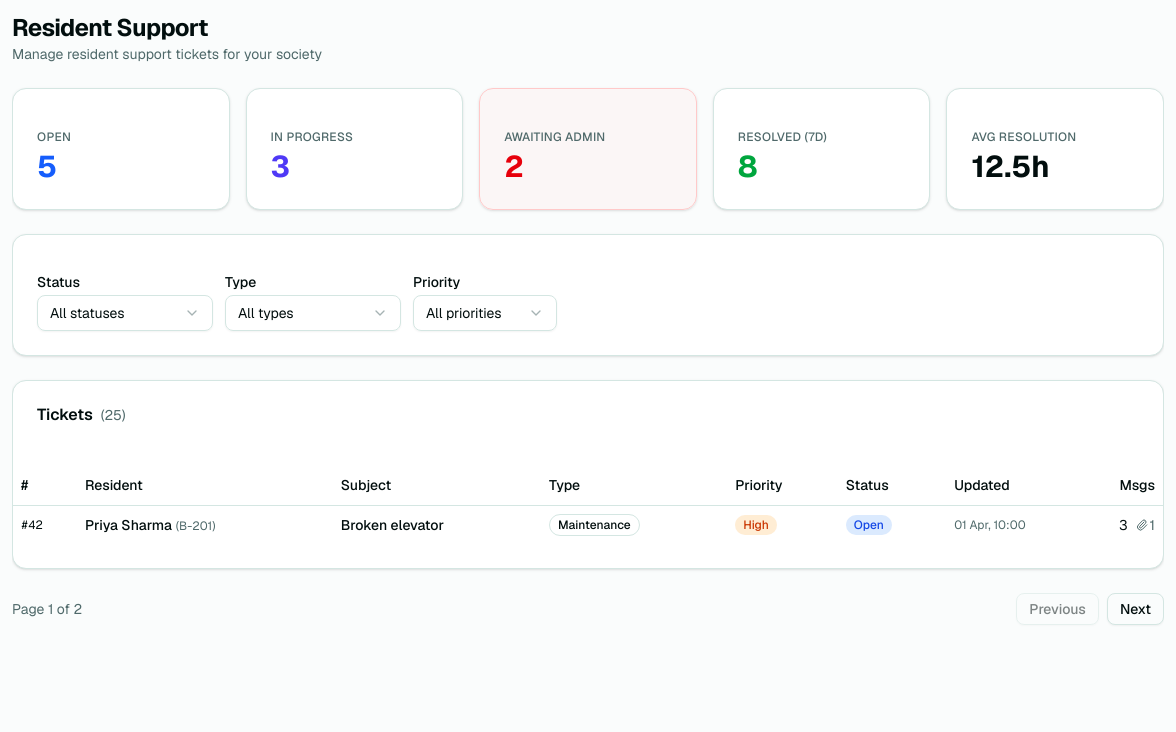
Test case: AdminResidentSupportPage › navigates to previous page
Click the button "Next".
click(1135, 608)  # box [1107,592,1164,624]
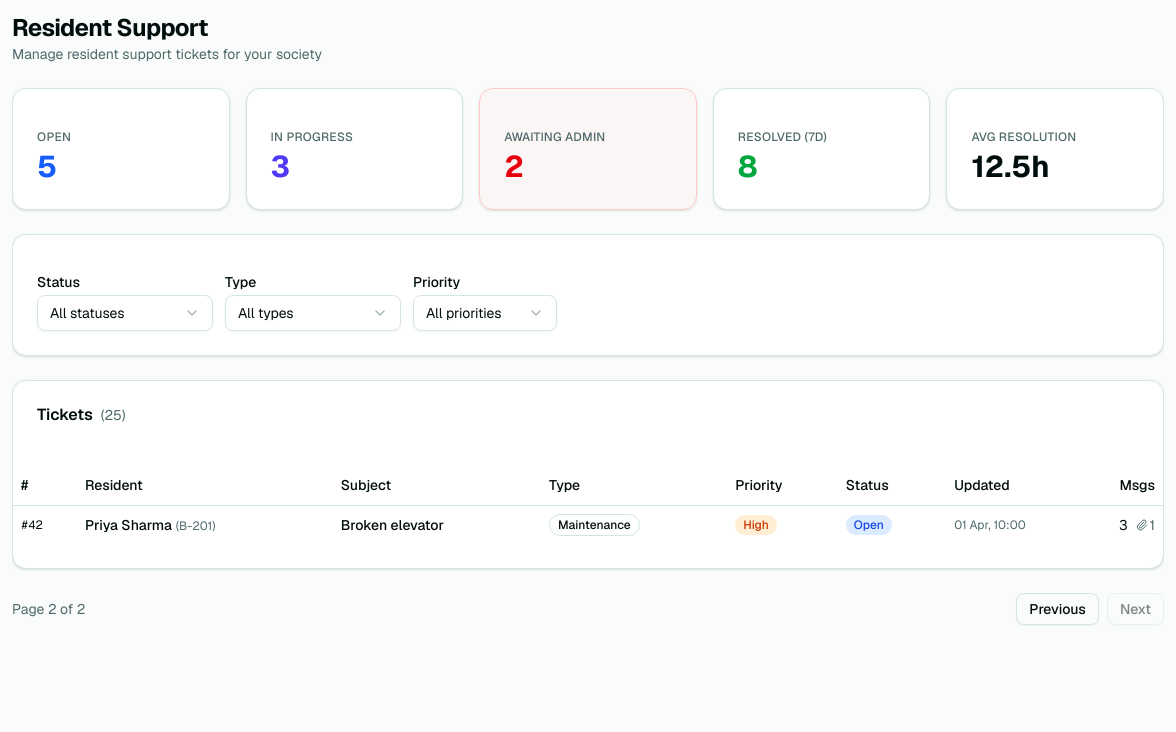
Result: the text "Page 2 of 2" is shown at [12,598,85,618]
Note: Now go back to page 1
Click the button "Previous".
click(1058, 608)  # box [1016,592,1099,624]
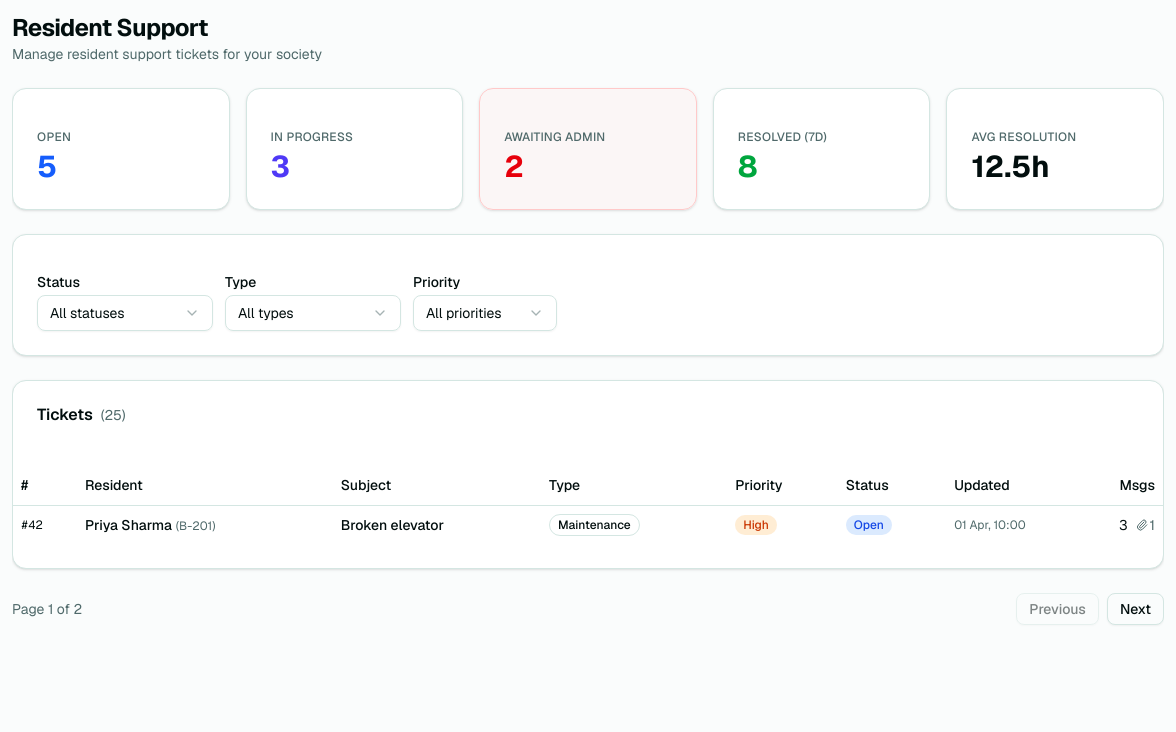
Result: the text "Page 1 of 2" is shown at [12,598,82,618]
